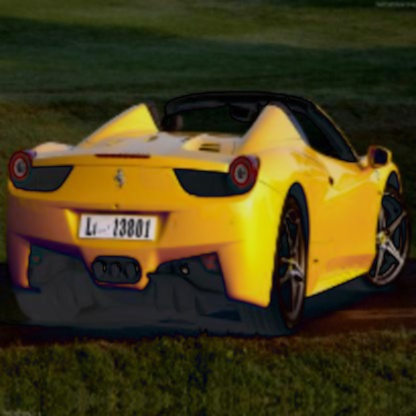Vehicle: (6, 89, 410, 333)
